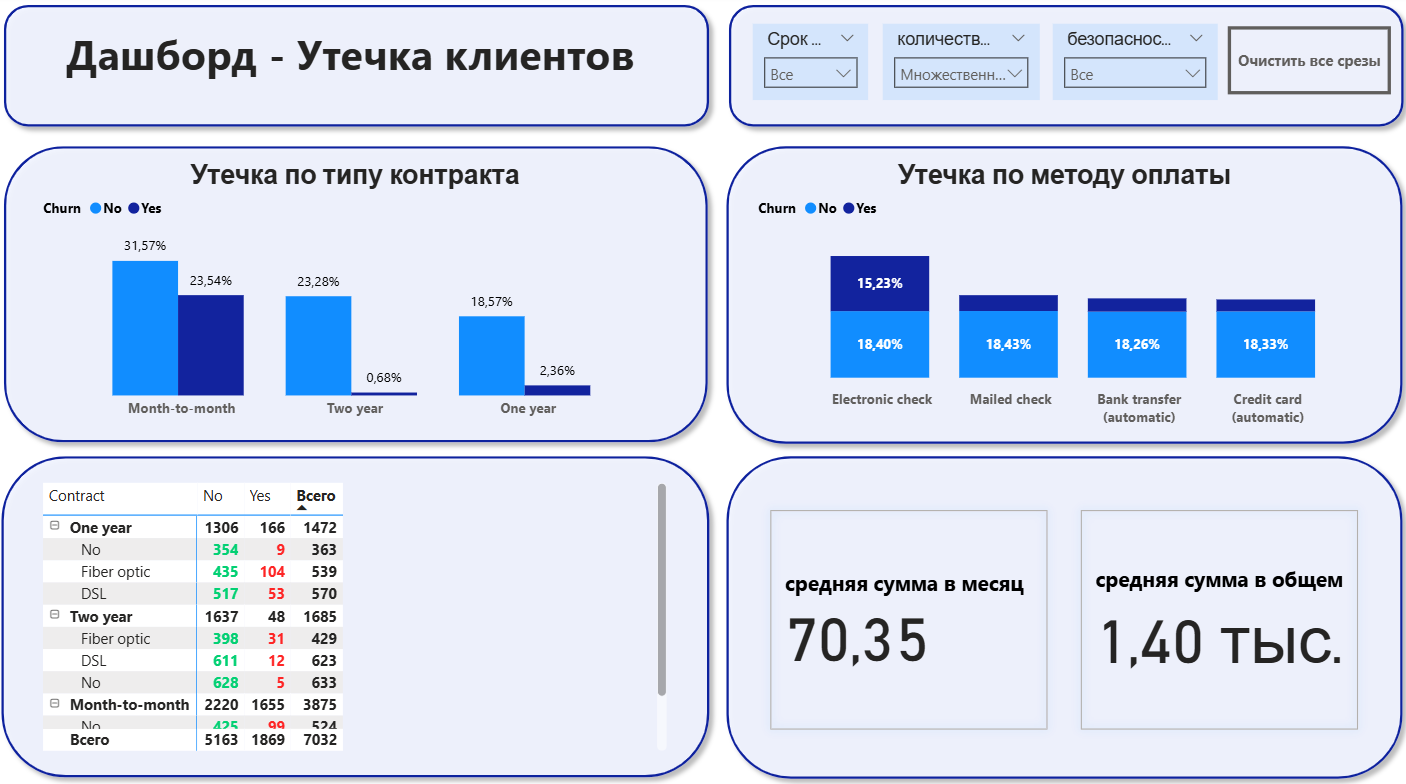

What the dashboard file says about the page in this screenshot:
{"tool":"powerbi","page":{"name":"Страница 1","canvas":[1280,720],"ordinal":0},"visuals":[{"type":"group","id":"g1","title":"Группа 2","box":[-1.9,0,1282.4,715.8],"z":0},{"type":"shape","box":[0.5,127,652.5,285],"z":0,"group":"g2"},{"type":"group","id":"g2","title":"Группа 1","box":[-1.9,127,1281.2,588.8],"z":1000,"group":"g1"},{"type":"shape","box":[651.9,127,627.5,286.2],"z":1000,"group":"g2"},{"type":"clusteredColumnChart","title":"Утечка по типу контракта","fields":{"Category":["churn_final.Contract"],"Series":["churn_final.Churn"],"Y":["CountNonNull(churn_final.Churn)"]},"box":[40,148.8,572.5,242.5],"z":1000},{"type":"shape","box":[0.5,0,653.8,127.5],"z":1500,"group":"g1"},{"type":"columnChart","title":"Утечка по методу оплаты","fields":{"Category":["churn_final.PaymentMethod"],"Y":["CountNonNull(churn_final.Churn)"],"Series":["churn_final.Churn"]},"box":[683.8,148.8,562.5,247.5],"z":2000},{"type":"shape","box":[651.9,407,627.5,308.8],"z":2000,"group":"g2"},{"type":"shape","box":[-1.9,407,656.2,307.5],"z":3000,"group":"g2"},{"type":"pivotTable","title":"ено","fields":{"Rows":["churn_final.Contract","churn_final.InternetService"],"Columns":["churn_final.Churn"],"Values":["CountNonNull(churn_final.churn_flag)"]},"box":[40,435,572.5,251.2],"z":3000},{"type":"cardVisual","fields":{"Data":["Median(churn_final.MonthlyCharges)","Median(churn_final.TotalCharges)"]},"box":[683.8,448.8,562.5,230],"z":4000},{"type":"textbox","box":[28.8,22.5,583.8,83.8],"z":5000},{"type":"shape","box":[654.3,0,626.2,127.5],"z":6000,"group":"g1"},{"type":"slicer","fields":{"Values":["churn_final.tenure"]},"box":[684.3,25.7,104.3,68.6],"z":6000},{"type":"slicer","fields":{"Values":["churn_final.services_count"]},"box":[801.4,25.7,141.4,68.6],"z":7000},{"type":"slicer","fields":{"Values":["churn_final.has_security"]},"box":[954.3,25.7,148.6,68.6],"z":8000},{"type":"actionButton","box":[1112.9,28.6,147.1,61.4],"z":9000}]}

Visuals, with their boxes in screenshot pixels (x1, y1, x2, y2), scaled from the page's 1280x720 canvas onto the 1406x784 screenshot:
"Группа 2" group: (left=0, top=0, right=1405, bottom=779)
shape: (left=1, top=138, right=717, bottom=449)
"Группа 1" group: (left=0, top=138, right=1405, bottom=779)
shape: (left=716, top=138, right=1405, bottom=450)
"Утечка по типу контракта" clusteredColumnChart: (left=44, top=162, right=673, bottom=426)
shape: (left=1, top=0, right=719, bottom=139)
"Утечка по методу оплаты" columnChart: (left=751, top=162, right=1369, bottom=432)
shape: (left=716, top=443, right=1405, bottom=779)
shape: (left=0, top=443, right=719, bottom=778)
"ено" pivotTable: (left=44, top=474, right=673, bottom=747)
cardVisual - Median(churn_final.MonthlyCharges) x Median(churn_final.TotalCharges): (left=751, top=489, right=1369, bottom=739)
textbox: (left=32, top=24, right=673, bottom=116)
shape: (left=719, top=0, right=1405, bottom=139)
slicer - churn_final.tenure: (left=752, top=28, right=866, bottom=103)
slicer - churn_final.services_count: (left=880, top=28, right=1036, bottom=103)
slicer - churn_final.has_security: (left=1048, top=28, right=1211, bottom=103)
actionButton: (left=1222, top=31, right=1384, bottom=98)
